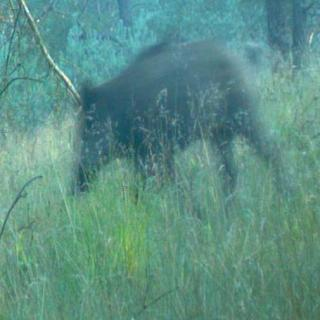Pig: (65, 53, 320, 224)
